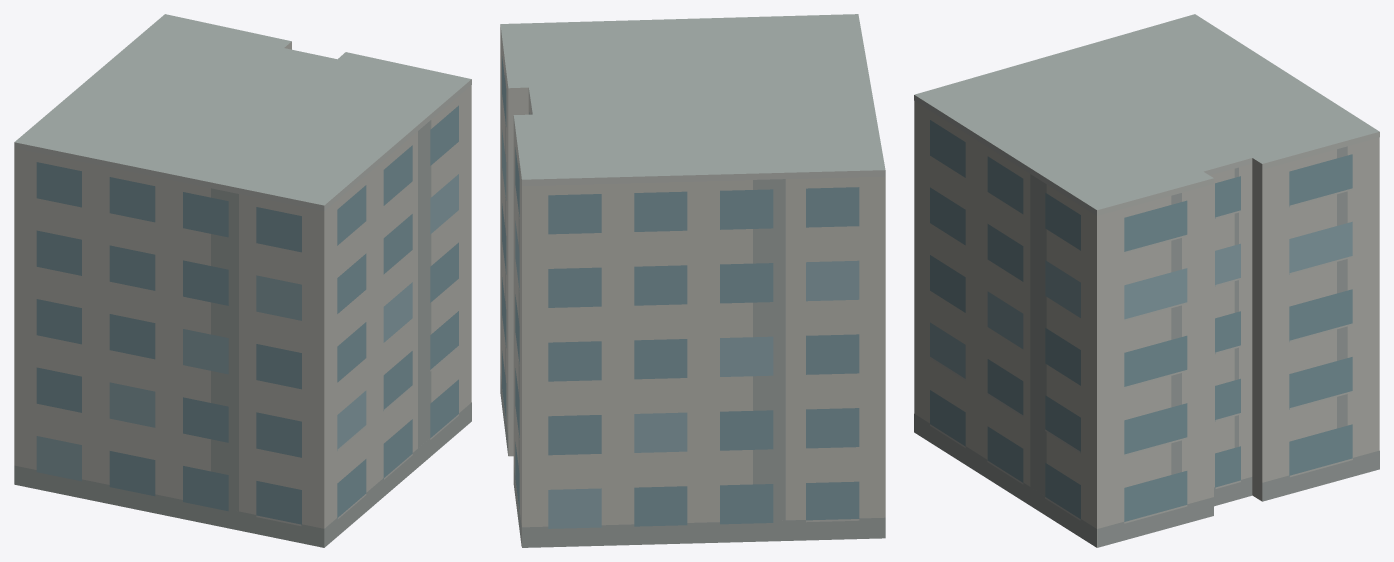
Rendered from survey-upis-32886917.glb.
The picture shows the model from 3 angles, left to right: view 1: azimuth 30°, elevation 25°; view 2: azimuth 150°, elevation 25°; view 3: azimuth 270°, elevation 25°; orthographic projection. The views are drawn at different scales.
Visible parts, largest first — view 1: survey-upis-32886917.tmp; view 2: survey-upis-32886917.tmp; view 3: survey-upis-32886917.tmp.
Part boxes in pixels (x1,y1,x2,y2): survey-upis-32886917.tmp: (14,14,471,547); survey-upis-32886917.tmp: (500,14,885,547); survey-upis-32886917.tmp: (914,14,1379,547).
Bounding box in the file's own units: 17.71 × 14.2 × 17.76.
